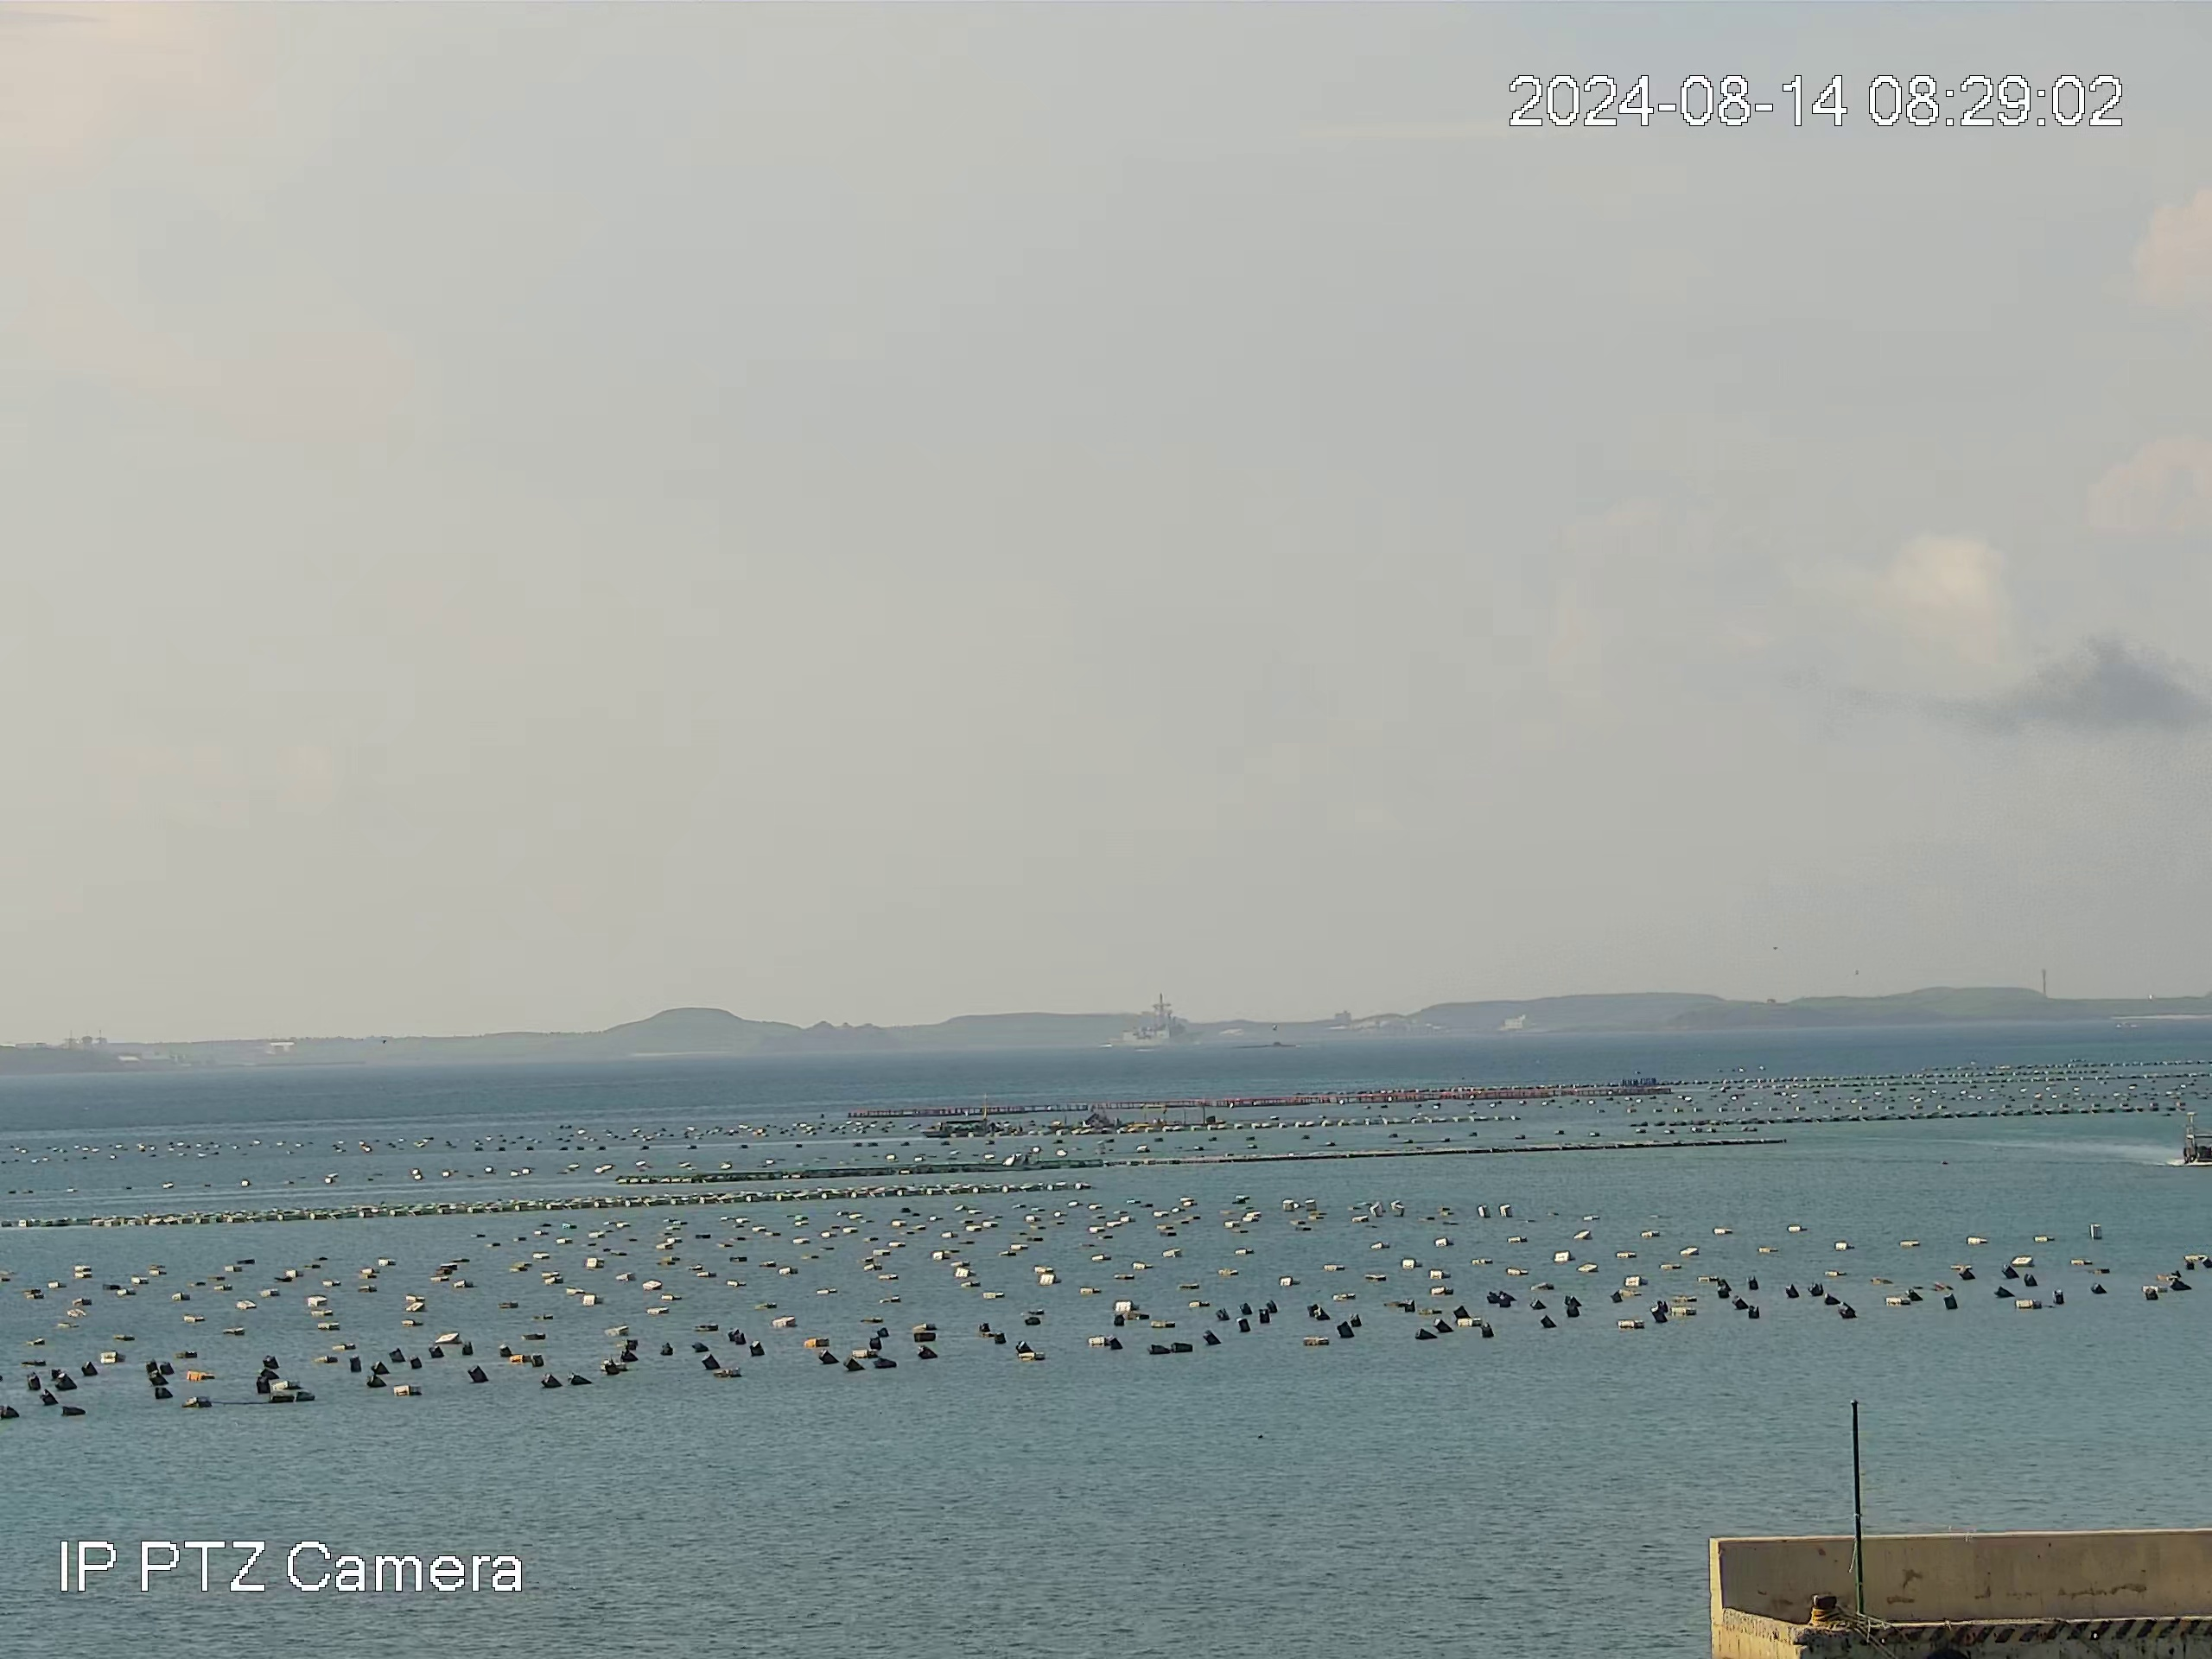boat: (918, 1114, 1000, 1145)
